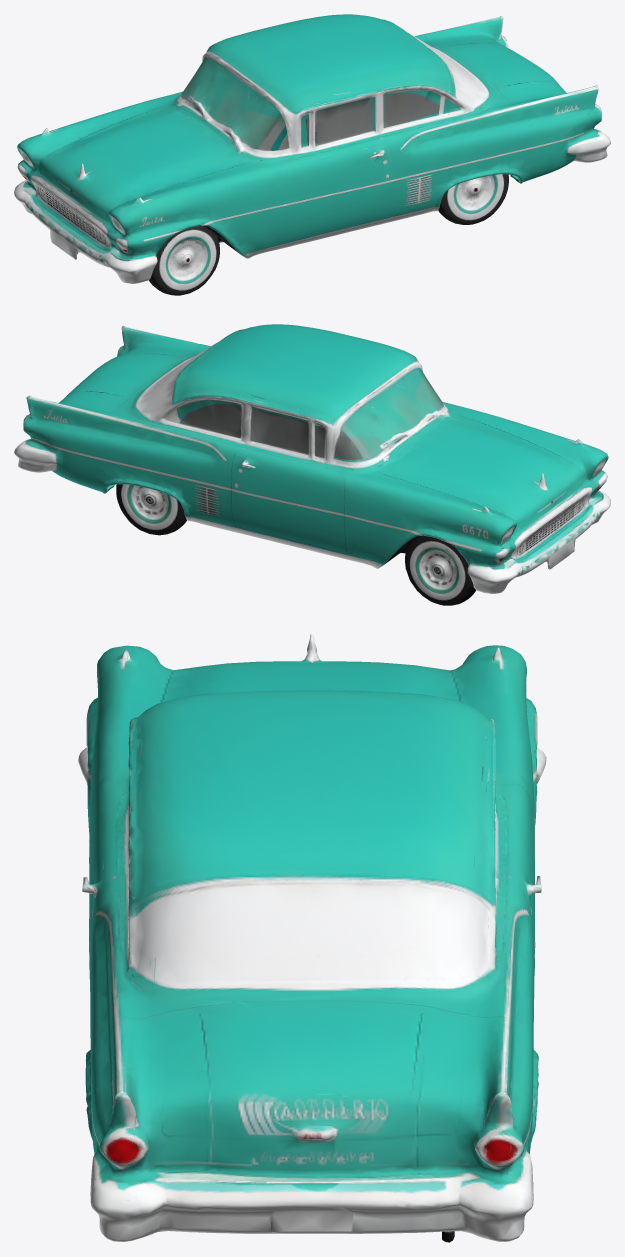
File: Meshy_AI_1960s_American_classi_0501204258_texture.fbx
The picture shows the model from 3 angles, top to bottom: view 1: azimuth 30°, elevation 25°; view 2: azimuth 150°, elevation 25°; view 3: azimuth 270°, elevation 25°; orthographic projection. The views are drawn at different scales.
Visible parts, largest first — view 1: Mesh_0; view 2: Mesh_0; view 3: Mesh_0.
Boxes of the visible parts, x1=… form: Mesh_0: x1=14, y1=14, x2=610, y2=295; Mesh_0: x1=14, y1=324, x2=610, y2=605; Mesh_0: x1=78, y1=634, x2=546, y2=1242.
Size of the model in its own units: 191 by 62.76 by 77.88.
1 material, 1 textured.
